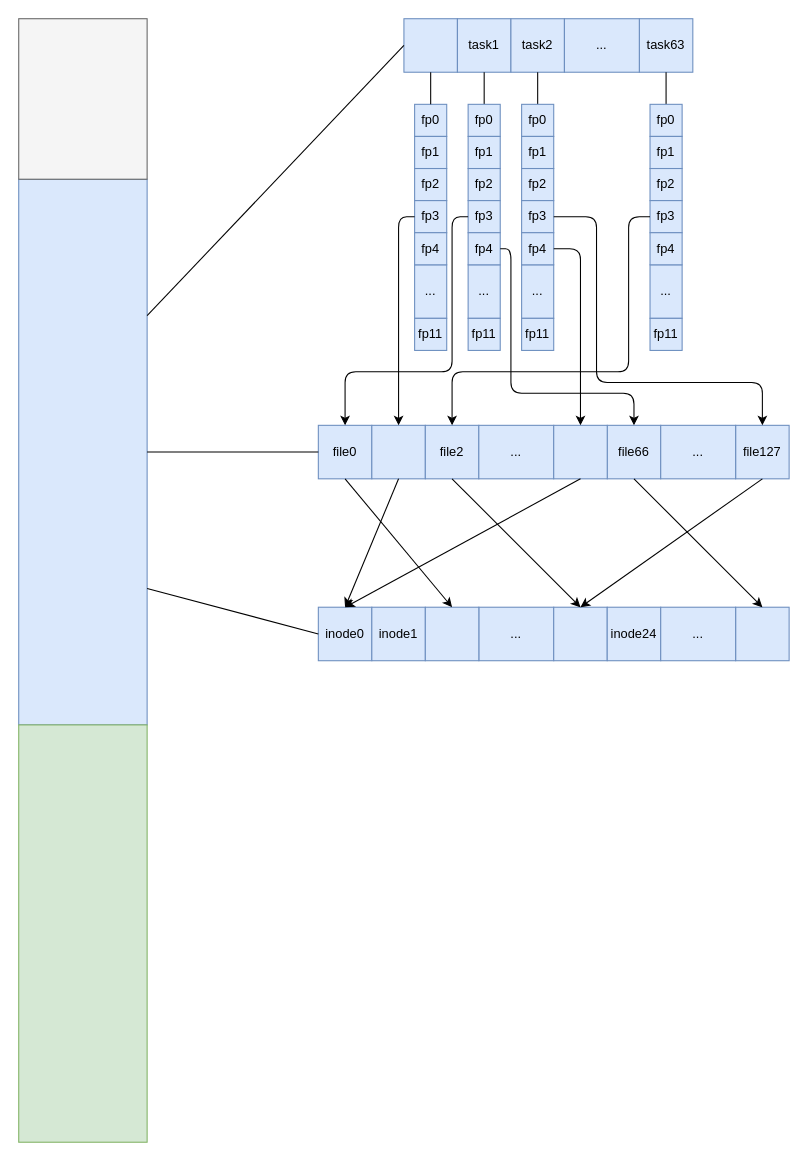
Image size: 808x1161. Some labels were removed from this diagram. Each missing label, with the box of its shape:
file1: (371, 424, 425, 479)
file65: (553, 424, 607, 479)
inode2: (424, 606, 479, 661)
inode23: (553, 606, 607, 661)
inode63: (735, 606, 789, 661)
task0: (403, 18, 457, 72)
内核数据区: (18, 178, 147, 725)
用户区: (18, 724, 147, 1142)
